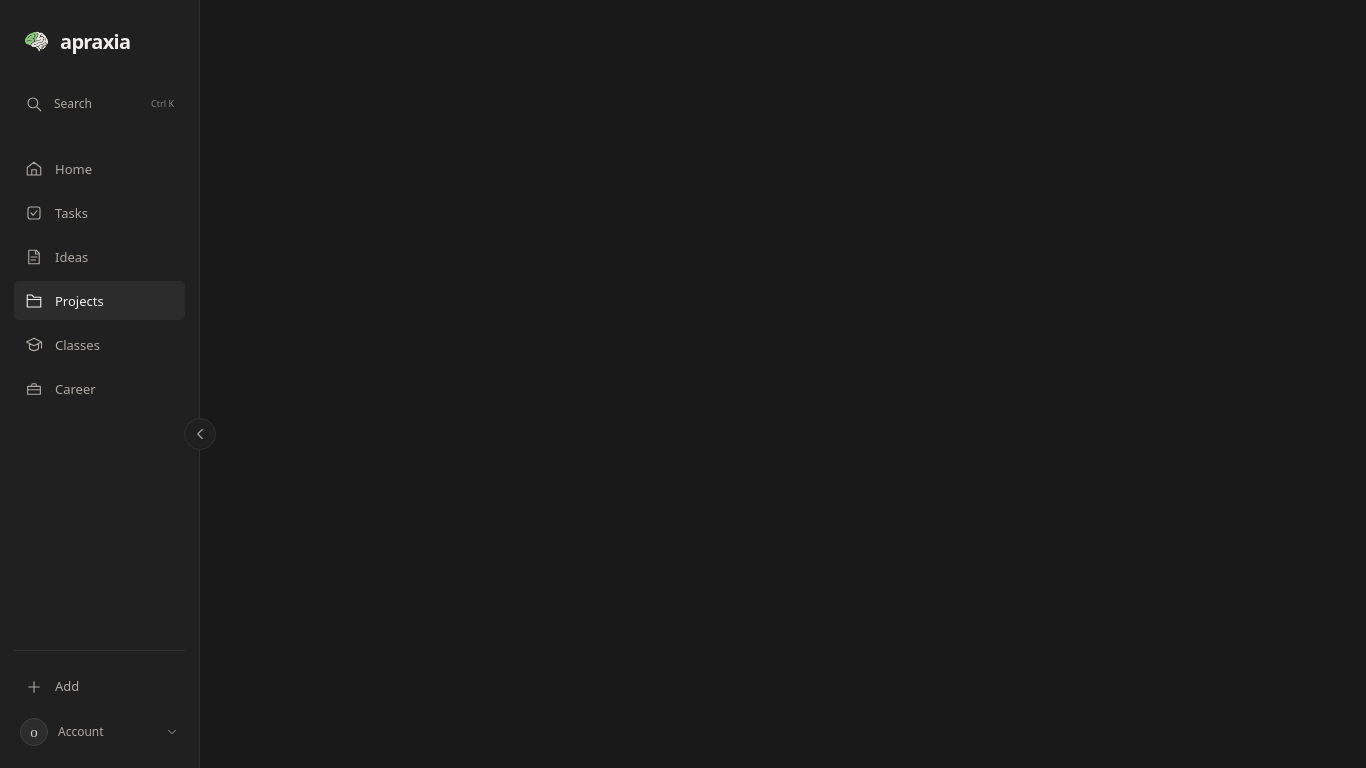
Test: Main workspace integration › captures a Todo from Projects, stays on Projects, and refreshes visible data once
Click the button with aria-label "+ add". click: point(100, 686)
box: left=14, top=667, right=185, bottom=706
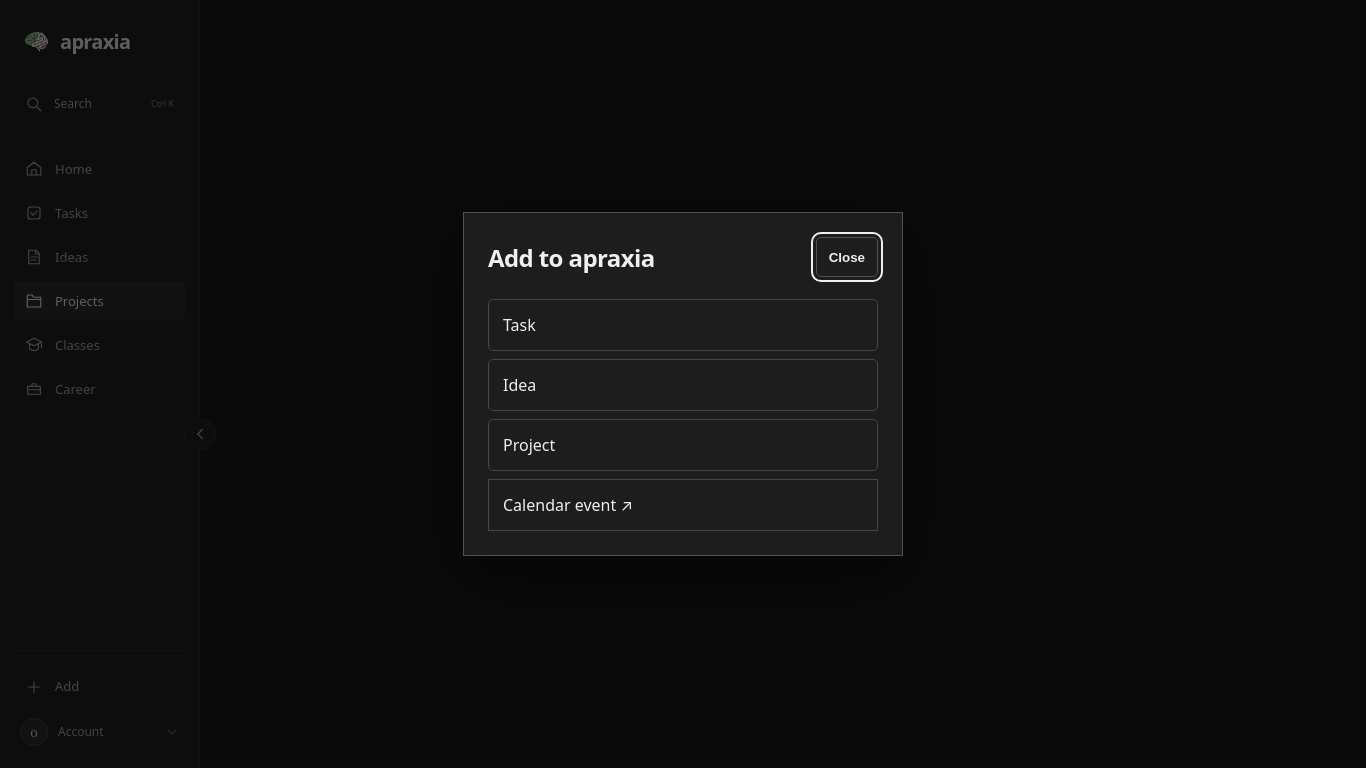
Click the button "Task". click: point(519, 325)
box: left=488, top=299, right=878, bottom=351
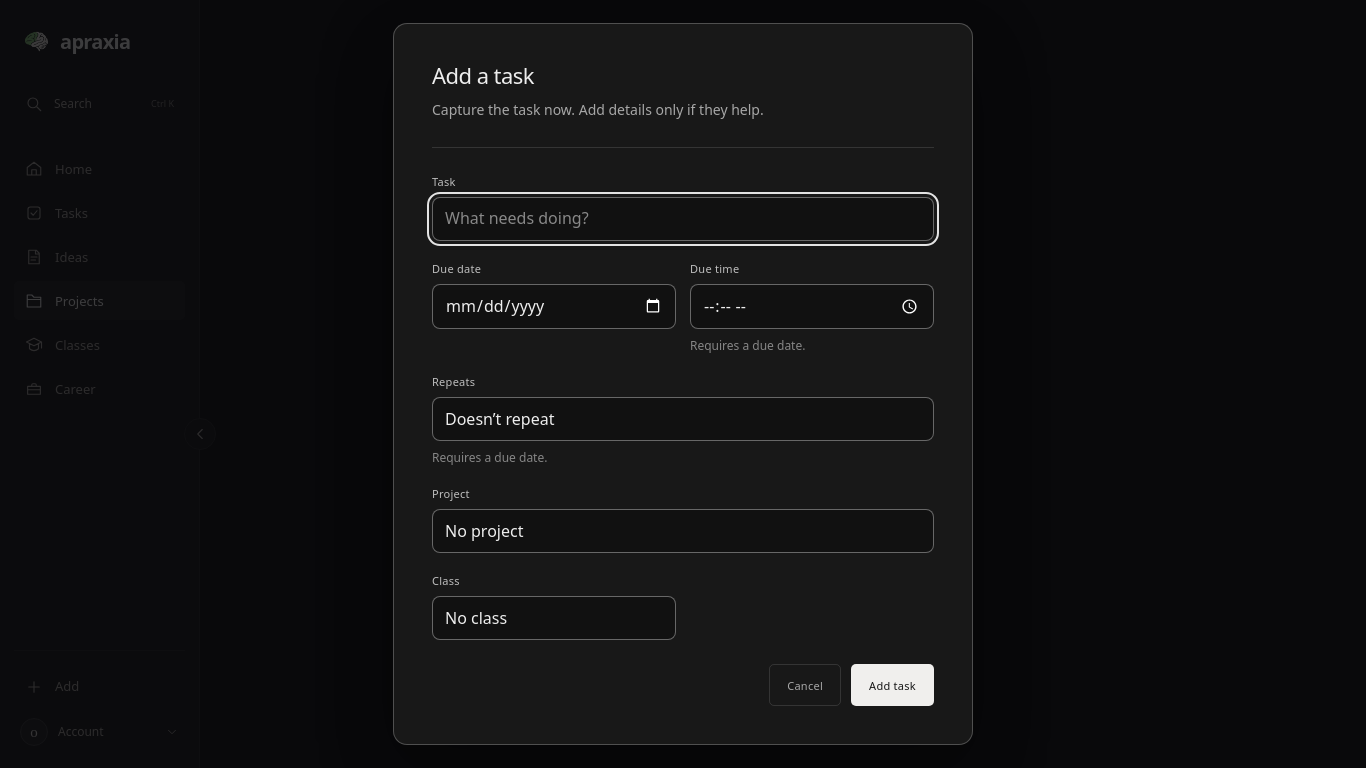
Type "Book the appointment" into the field labelled "Task". click: point(683, 219)
box: left=432, top=197, right=934, bottom=241
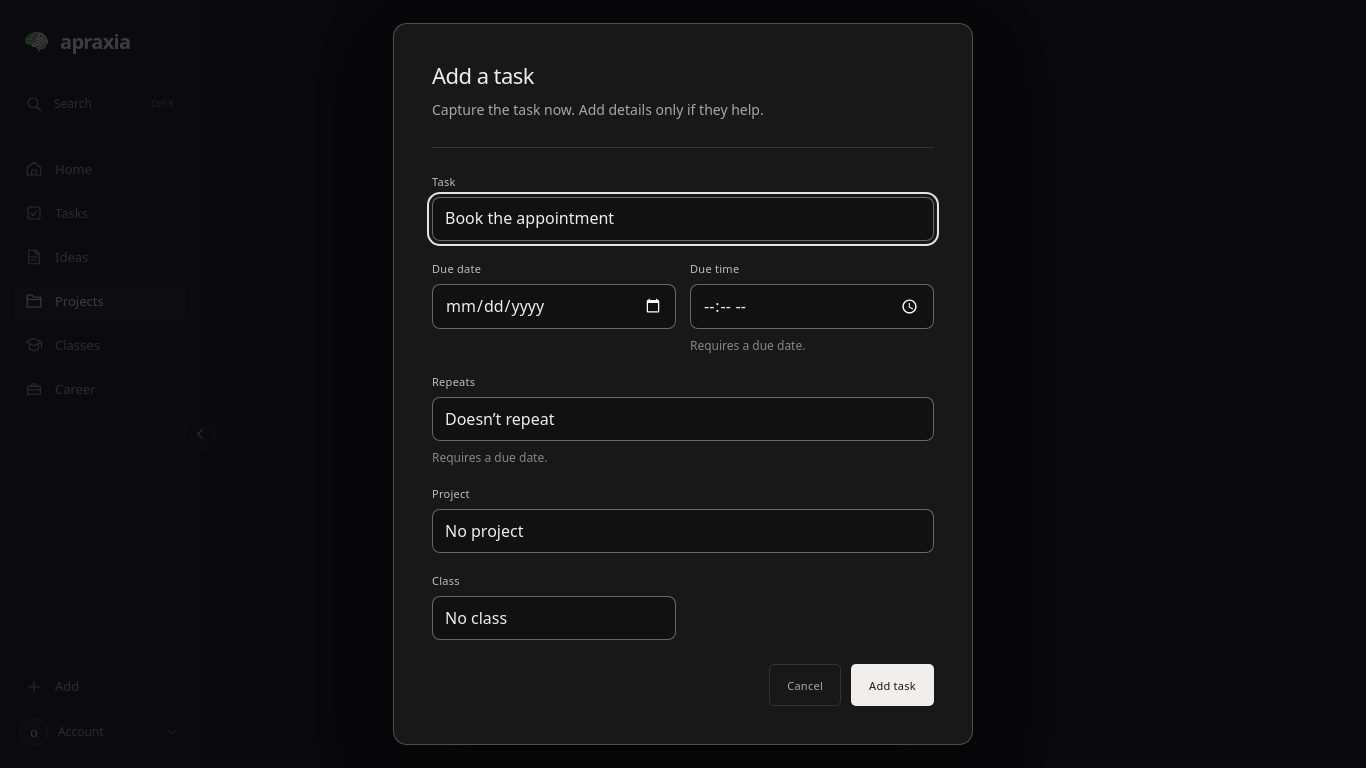
Click the button "Add task". click: point(893, 685)
box: left=851, top=664, right=934, bottom=706
(page scrolled)
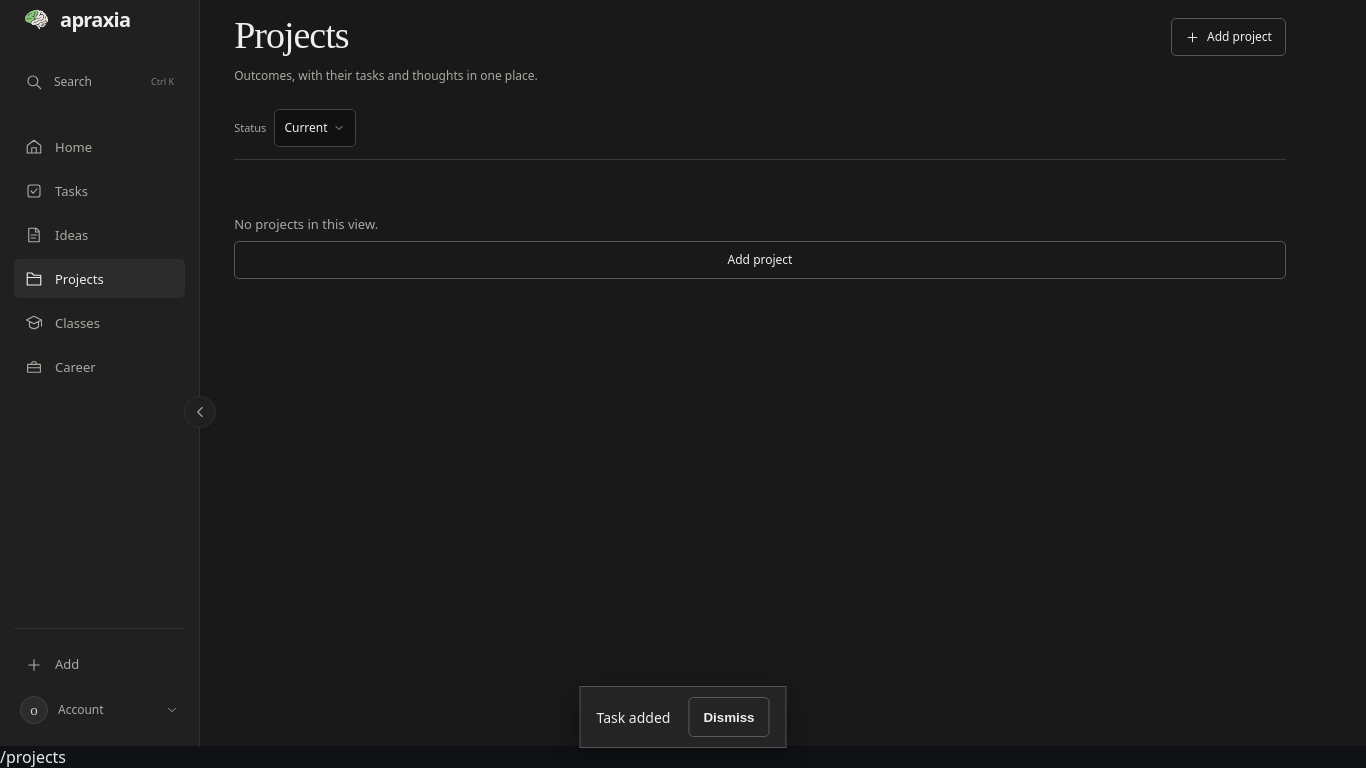
Expected: the text named "Current route" reads "/projects", left=0, top=746, right=66, bottom=767
Now the text "Task added" is shown, box left=596, top=708, right=670, bottom=726
Now the dialog is gone
